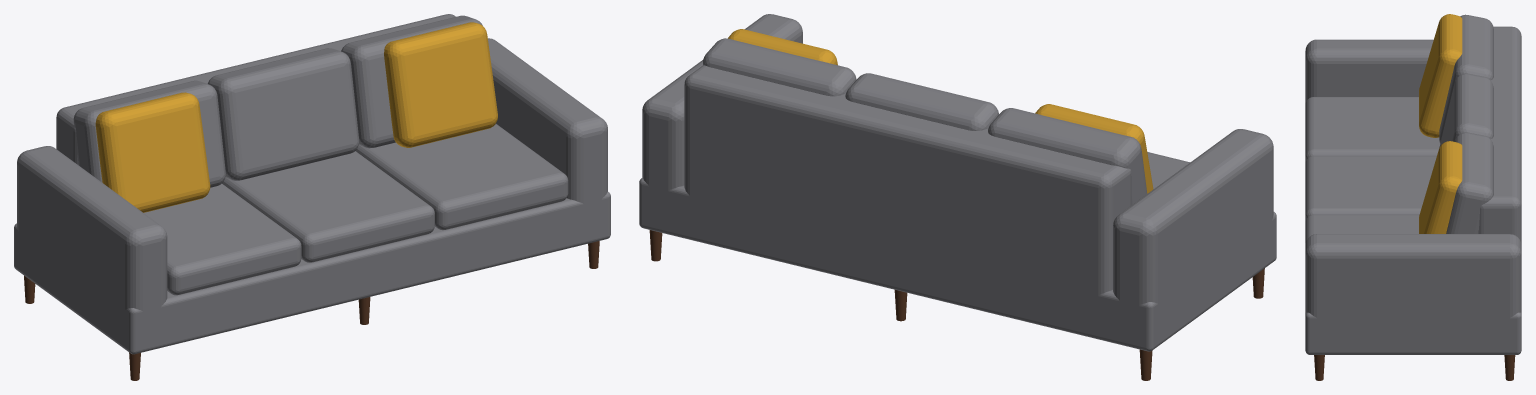
File: 001_three_seat_sofa.glb
3 views of the same model, side by side, from view 1: azimuth 30°, elevation 25°; view 2: azimuth 150°, elevation 25°; view 3: azimuth 270°, elevation 25° (orthographic). The views are drawn at different scales.
Parts seen in each view (by area): view 1: 006_sofa_base_frame, 007_sofa_arm_l, 014_sofa_back_cushion_2, 011_sofa_seat_cushion_2, 012_sofa_seat_cushion_3, 017_sofa_throw_pillow, 016_sofa_throw_pillow, 010_sofa_seat_cushion_1, 008_sofa_arm_r, 015_sofa_back_cushion_3, 013_sofa_back_cushion_1, 009_sofa_back_frame; view 2: 009_sofa_back_frame, 007_sofa_arm_l, 006_sofa_base_frame, 008_sofa_arm_r, 013_sofa_back_cushion_1, 014_sofa_back_cushion_2, 015_sofa_back_cushion_3, 016_sofa_throw_pillow, 017_sofa_throw_pillow, 010_sofa_seat_cushion_1; view 3: 008_sofa_arm_r, 006_sofa_base_frame, 011_sofa_seat_cushion_2, 010_sofa_seat_cushion_1, 007_sofa_arm_l, 009_sofa_back_frame, 016_sofa_throw_pillow, 015_sofa_back_cushion_3, 014_sofa_back_cushion_2, 017_sofa_throw_pillow, 013_sofa_back_cushion_1, 012_sofa_seat_cushion_3 (+2 smaller).
Boxes of the visible parts, box(x1,y1,x2,y2) form: 006_sofa_base_frame: box(14, 192, 610, 354); 007_sofa_arm_l: box(17, 146, 167, 341); 014_sofa_back_cushion_2: box(207, 48, 359, 180); 011_sofa_seat_cushion_2: box(222, 151, 434, 262); 012_sofa_seat_cushion_3: box(355, 124, 568, 230); 017_sofa_throw_pillow: box(384, 22, 497, 147); 016_sofa_throw_pillow: box(95, 92, 210, 212); 010_sofa_seat_cushion_1: box(144, 183, 301, 295); 008_sofa_arm_r: box(488, 38, 607, 203); 015_sofa_back_cushion_3: box(341, 15, 482, 148); 013_sofa_back_cushion_1: box(73, 80, 225, 187); 009_sofa_back_frame: box(56, 14, 455, 164); 009_sofa_back_frame: box(684, 65, 1131, 330); 007_sofa_arm_l: box(1113, 129, 1273, 338); 006_sofa_base_frame: box(639, 178, 1276, 351); 008_sofa_arm_r: box(642, 14, 802, 223); 013_sofa_back_cushion_1: box(988, 108, 1147, 204); 014_sofa_back_cushion_2: box(845, 73, 998, 130); 015_sofa_back_cushion_3: box(703, 38, 856, 96); 016_sofa_throw_pillow: box(1035, 104, 1153, 193); 017_sofa_throw_pillow: box(728, 29, 837, 65); 010_sofa_seat_cushion_1: box(1147, 152, 1189, 189); 008_sofa_arm_r: box(1305, 234, 1521, 345); 006_sofa_base_frame: box(1305, 312, 1521, 354); 011_sofa_seat_cushion_2: box(1305, 156, 1436, 221); 010_sofa_seat_cushion_1: box(1305, 97, 1440, 162); 007_sofa_arm_l: box(1305, 39, 1433, 104); 009_sofa_back_frame: box(1478, 26, 1521, 244); 016_sofa_throw_pillow: box(1419, 14, 1462, 137); 015_sofa_back_cushion_3: box(1446, 132, 1493, 233); 014_sofa_back_cushion_2: box(1439, 73, 1493, 147); 017_sofa_throw_pillow: box(1419, 141, 1462, 233); 013_sofa_back_cushion_1: box(1439, 14, 1493, 143); 012_sofa_seat_cushion_3: box(1305, 214, 1419, 244).
Size of the model in its own units: 2.14 by 0.8567 by 0.92.
